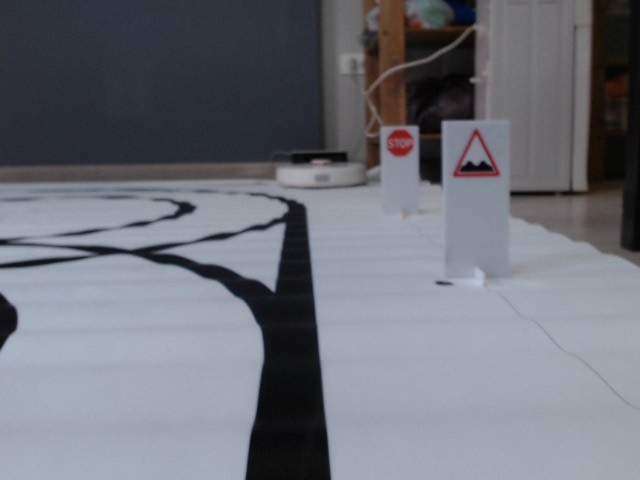Nerov: (453, 127, 500, 182)
